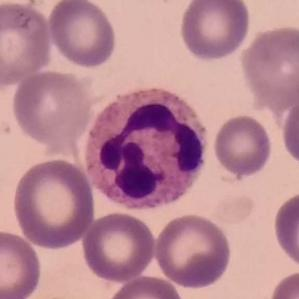Neutrophil: (81, 75, 213, 213)
RBC: (9, 156, 98, 250), (9, 68, 93, 148), (152, 211, 234, 290), (80, 210, 158, 283), (237, 23, 299, 109), (45, 0, 118, 70), (176, 0, 252, 63), (0, 1, 55, 88), (210, 112, 274, 179), (0, 227, 44, 298), (271, 189, 299, 271), (104, 273, 186, 299), (280, 93, 299, 172), (267, 268, 299, 299)
